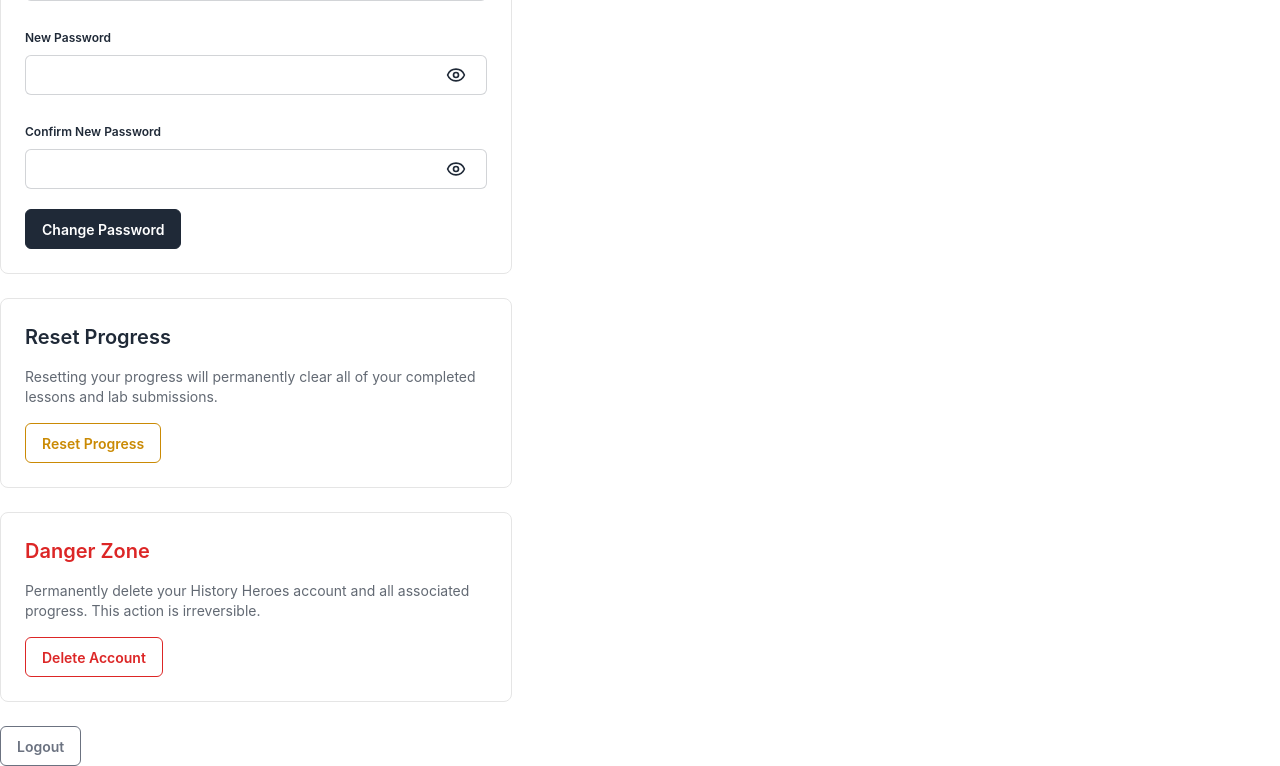
Scenario: ProfilePage › Reset Progress › shows error when resetProgress fails
The width and height of the screenshot is (1280, 766).
(page scrolled)
Click the button "Reset Progress" at (93, 443), box [25, 423, 161, 463]
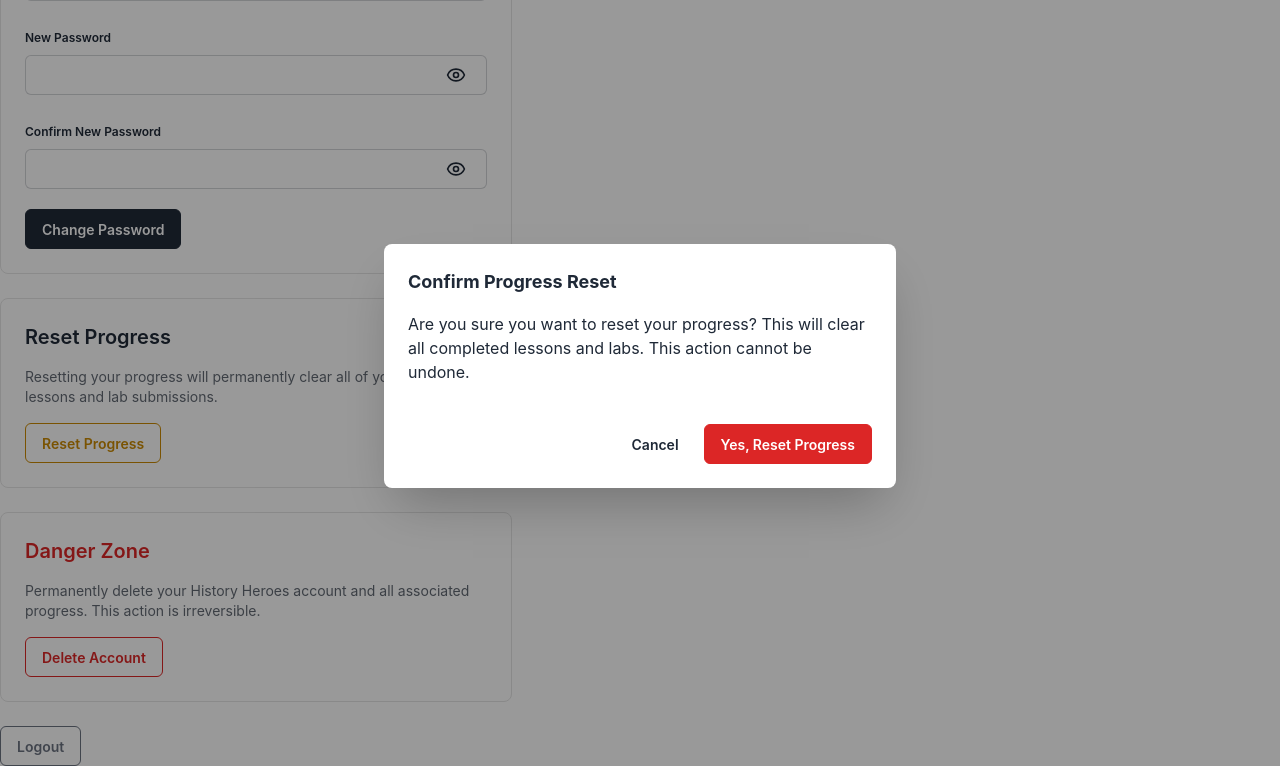
Click the button "Yes, Reset Progress" at (788, 444), box [704, 424, 872, 464]
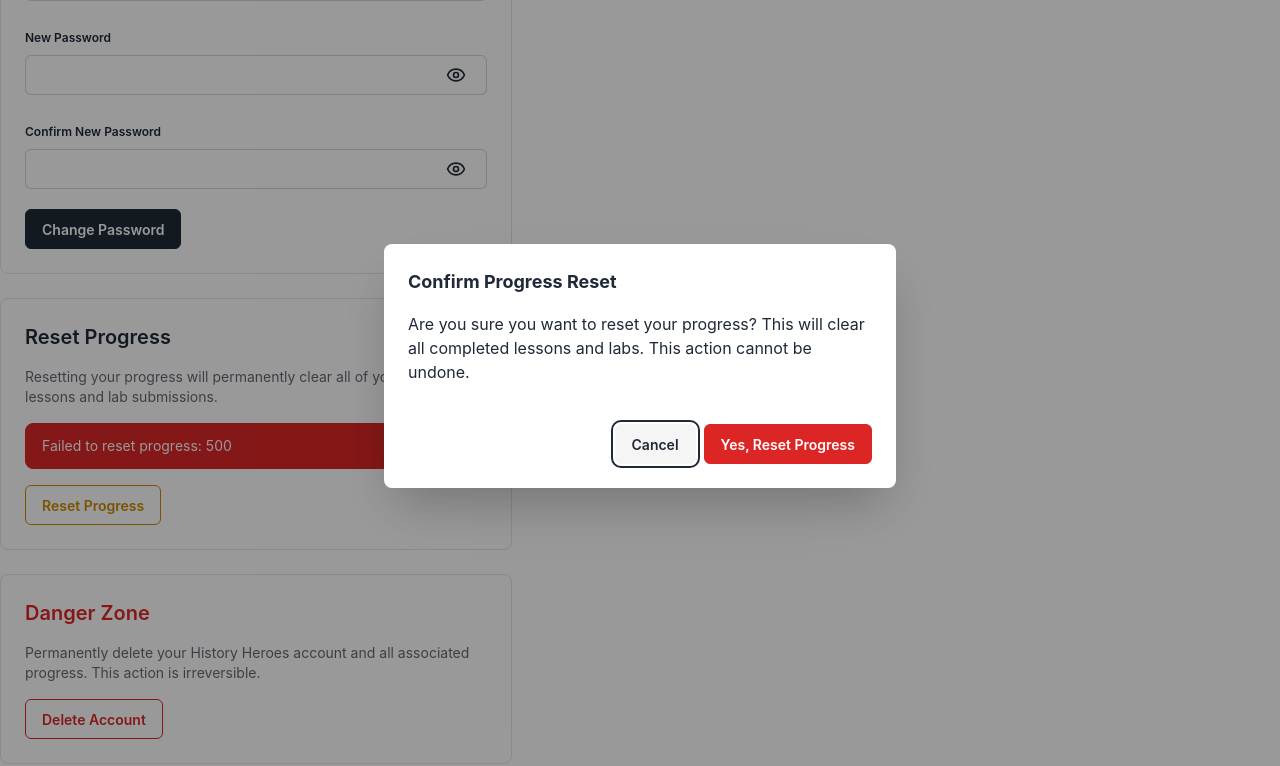
Check: the text "Failed to reset progress: 500" is shown, box [42, 436, 232, 456]
